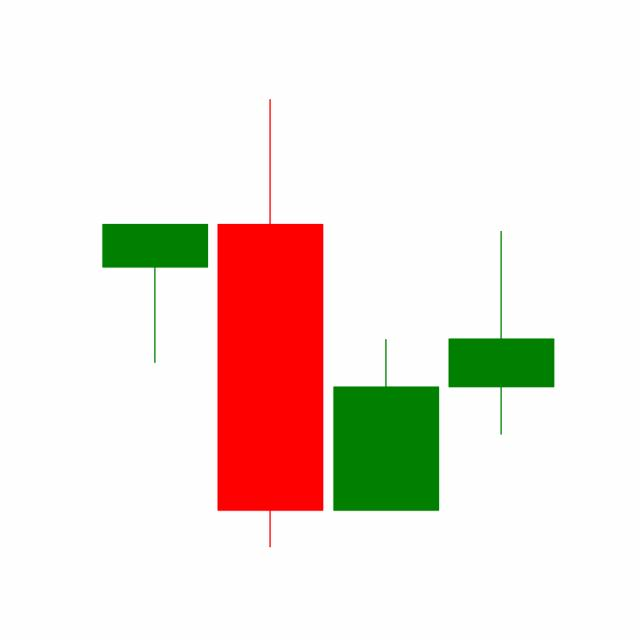Spinning Top: (443, 229, 559, 437)
